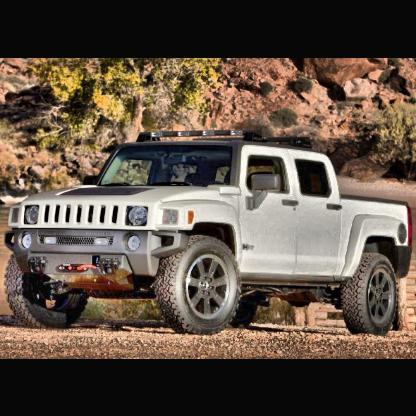HUMMER H3T Crew Cab 2010: (6, 129, 412, 337)
